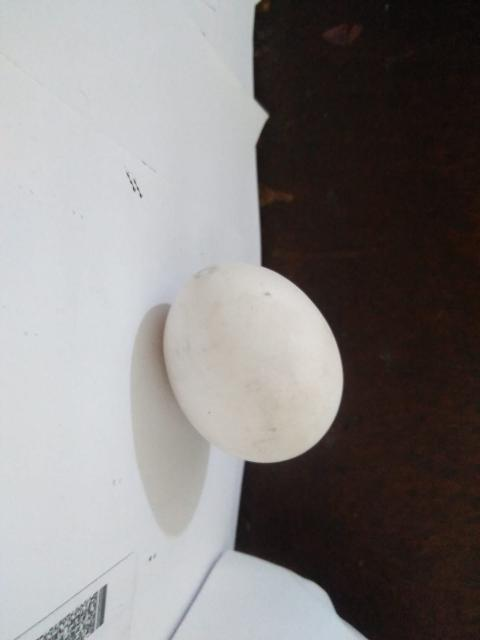Sano: (164, 262, 344, 465)
